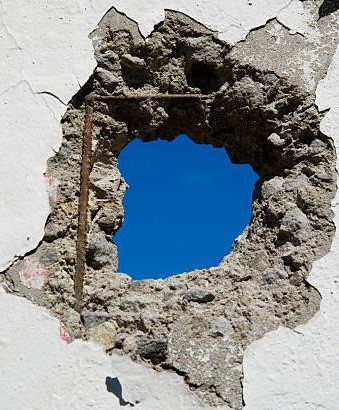Exposed reinforcement: (73, 99, 93, 313), (84, 93, 214, 101)
Spalling: (1, 1, 339, 410)
